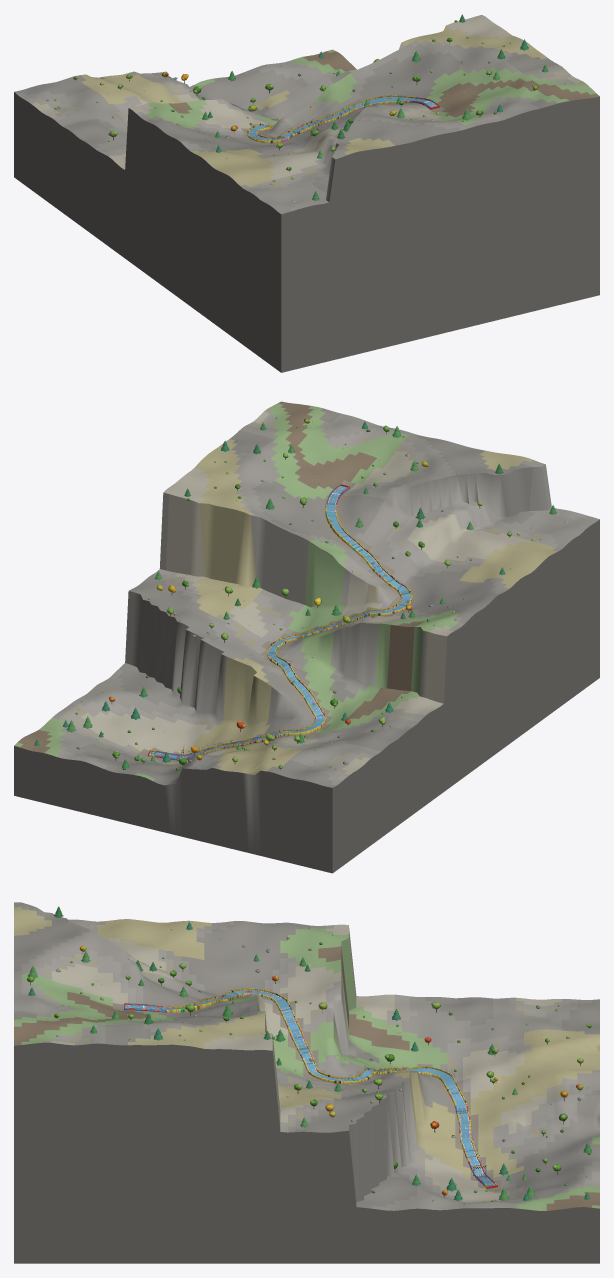
3 renders of one model, top to bottom at view 1: azimuth 30°, elevation 25°; view 2: azimuth 150°, elevation 25°; view 3: azimuth 270°, elevation 25°, orthographic. The views are drawn at different scales.
Visible parts, largest first — view 1: grass, hay, pines, road, leafy trees; view 2: grass, hay, road, pines, leafy trees; view 3: grass, road, hay, pines, leafy trees.
Part boxes in pixels (x1,y1,x2,y2): grass: [14, 15, 599, 372]; hay: [247, 95, 440, 143]; pines: [202, 14, 548, 200]; road: [248, 97, 436, 140]; leafy trees: [73, 38, 538, 170]; grass: [14, 401, 599, 873]; hay: [148, 484, 412, 760]; road: [149, 486, 411, 758]; pines: [34, 421, 556, 768]; leafy trees: [112, 418, 511, 768]; grass: [14, 902, 599, 1263]; road: [125, 990, 494, 1186]; hay: [124, 987, 497, 1188]; pines: [28, 906, 591, 1201]; leafy trees: [27, 963, 591, 1171].
Size of the model in its own units: 265 by 168 by 385.
